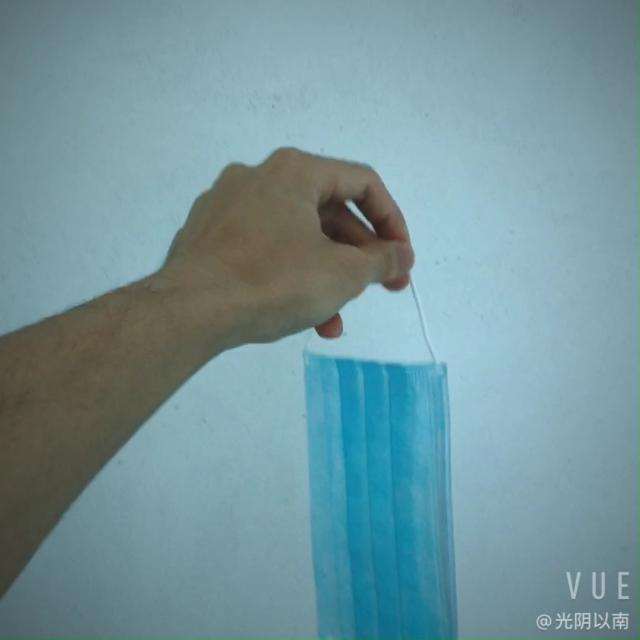non-organic waste: (275, 335, 461, 633)
